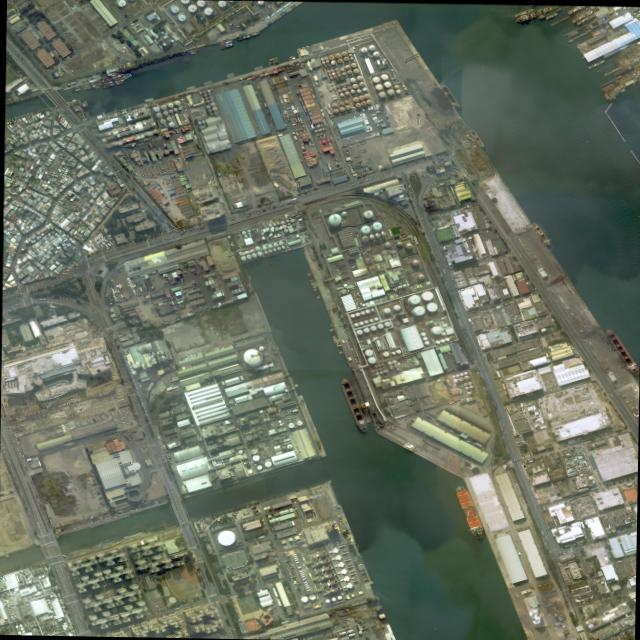large-vehicle: (90, 136, 94, 141), (74, 117, 78, 122), (172, 227, 177, 231), (113, 270, 118, 274), (119, 267, 123, 272), (118, 268, 122, 273), (116, 165, 120, 170), (142, 291, 148, 294), (134, 292, 140, 295), (269, 206, 275, 209), (110, 159, 114, 163), (131, 163, 135, 167), (95, 299, 99, 303), (124, 151, 127, 156), (231, 337, 236, 340), (197, 225, 202, 228), (117, 298, 122, 301), (441, 267, 444, 272), (434, 255, 437, 260), (544, 631, 547, 636), (501, 423, 504, 428), (424, 413, 429, 416), (269, 122, 272, 127), (271, 204, 276, 207), (372, 118, 377, 121), (370, 112, 375, 115), (113, 145, 119, 147), (107, 146, 113, 148), (194, 225, 200, 227), (186, 227, 192, 229), (150, 201, 153, 205), (112, 167, 116, 170), (15, 52, 18, 56), (408, 185, 411, 189), (465, 333, 468, 337), (410, 189, 413, 193), (403, 175, 406, 179), (400, 170, 403, 174), (445, 139, 448, 143), (562, 635, 566, 638), (609, 392, 612, 396), (540, 528, 542, 534), (517, 237, 520, 241), (402, 417, 406, 420), (344, 149, 348, 152), (359, 170, 362, 174), (356, 171, 359, 175), (347, 168, 350, 172), (285, 200, 291, 202), (374, 109, 378, 112), (375, 131, 378, 135), (369, 157, 372, 161), (364, 159, 367, 163), (364, 177, 368, 180), (139, 146, 144, 148), (408, 186, 410, 191), (406, 177, 408, 182), (548, 622, 550, 627), (497, 411, 499, 416), (373, 120, 378, 122), (347, 158, 352, 160), (371, 117, 376, 119), (371, 116, 376, 118), (373, 107, 378, 109), (361, 167, 366, 169), (87, 135, 90, 138), (169, 223, 172, 226), (19, 54, 22, 57), (405, 180, 408, 183), (431, 121, 434, 124), (424, 113, 427, 116), (606, 385, 609, 388), (82, 270, 84, 274), (232, 334, 236, 336), (174, 606, 178, 608), (180, 230, 184, 232), (237, 336, 241, 338), (245, 213, 249, 215), (434, 250, 436, 254), (410, 191, 412, 195), (416, 203, 418, 207), (419, 214, 421, 218), (439, 132, 441, 136), (361, 113, 365, 115), (360, 112, 364, 114), (503, 431, 505, 435), (518, 252, 520, 256), (525, 227, 529, 229), (521, 229, 525, 231), (358, 112, 360, 116), (353, 170, 357, 172), (353, 169, 357, 171), (348, 159, 352, 161), (353, 280, 355, 284), (278, 203, 282, 205), (359, 147, 361, 151), (371, 115, 375, 117), (377, 118, 381, 120), (374, 103, 376, 107), (370, 104, 372, 108), (369, 104, 371, 108), (367, 105, 369, 109), (368, 157, 370, 161), (366, 158, 368, 162), (362, 168, 366, 170), (350, 182, 354, 184), (96, 148, 98, 151), (112, 163, 115, 165), (120, 263, 122, 266), (361, 107, 363, 110), (361, 148, 363, 151), (354, 150, 356, 153), (358, 149, 360, 152), (368, 105, 370, 108), (375, 103, 377, 106), (372, 104, 374, 107), (366, 106, 368, 109), (372, 132, 374, 135), (363, 147, 365, 150), (254, 90, 256, 92), (30, 68, 32, 70), (524, 563, 526, 565), (343, 149, 347, 150), (362, 148, 364, 150), (38, 297, 41, 298), (466, 203, 467, 206), (360, 112, 363, 113), (265, 206, 268, 207)
ship: (337, 375, 368, 432), (602, 326, 638, 375), (453, 483, 485, 538), (513, 4, 564, 22), (438, 81, 460, 109), (530, 220, 550, 246), (535, 5, 561, 19), (468, 127, 484, 148), (570, 9, 592, 22), (575, 12, 594, 24), (566, 4, 586, 14), (586, 57, 604, 68), (513, 7, 532, 16), (603, 65, 620, 75), (110, 71, 125, 78), (218, 41, 232, 48), (100, 81, 113, 88), (544, 11, 557, 18), (235, 33, 249, 39), (219, 38, 232, 44), (90, 81, 101, 87), (100, 76, 111, 82), (101, 79, 111, 84), (79, 82, 89, 87), (249, 30, 259, 35), (267, 55, 277, 60), (113, 75, 122, 80), (90, 79, 99, 84), (80, 99, 85, 108), (121, 74, 129, 79), (114, 80, 123, 84), (114, 78, 123, 82), (71, 87, 80, 91), (81, 85, 90, 89), (121, 72, 128, 77), (82, 99, 87, 106), (70, 85, 78, 89), (286, 55, 294, 59), (603, 92, 607, 98), (287, 54, 293, 57), (299, 45, 304, 47), (304, 44, 308, 46), (295, 47, 299, 49)
storage-tank: (242, 348, 259, 364), (216, 529, 234, 544), (327, 212, 340, 223), (413, 304, 424, 314), (425, 301, 436, 310), (421, 290, 432, 299), (409, 293, 419, 302), (371, 220, 381, 229), (432, 324, 441, 333), (362, 209, 372, 217), (530, 615, 539, 623), (360, 224, 369, 232), (203, 6, 211, 14), (194, 11, 202, 19), (367, 355, 375, 362), (528, 608, 536, 615), (410, 258, 418, 265), (251, 453, 259, 460), (187, 3, 195, 10), (177, 12, 185, 19), (170, 4, 178, 11), (392, 303, 399, 310), (300, 594, 307, 601), (404, 241, 411, 248), (382, 240, 389, 247), (386, 87, 393, 94), (307, 592, 314, 599), (360, 234, 367, 241), (364, 348, 372, 354), (217, 0, 225, 6), (382, 80, 390, 86), (374, 83, 382, 89), (371, 75, 379, 81), (116, 0, 125, 5), (382, 306, 389, 312), (263, 460, 270, 466), (157, 354, 164, 360), (377, 90, 384, 96), (380, 73, 387, 79), (367, 44, 374, 50), (359, 46, 366, 52), (195, 0, 203, 5), (249, 447, 255, 453), (372, 50, 378, 56), (338, 105, 344, 111), (332, 107, 338, 113), (416, 273, 423, 278), (382, 350, 388, 355), (376, 322, 382, 327), (362, 326, 368, 331), (245, 434, 251, 439), (168, 120, 173, 126), (155, 111, 161, 116), (159, 117, 165, 122), (355, 74, 361, 79), (334, 52, 340, 57), (395, 240, 401, 245), (342, 55, 348, 60), (348, 76, 354, 81), (339, 288, 345, 293), (355, 328, 361, 333), (295, 419, 301, 424), (287, 421, 293, 426), (285, 443, 291, 448), (354, 101, 360, 106), (357, 94, 363, 99), (344, 104, 350, 109), (256, 0, 263, 4), (330, 102, 337, 106), (423, 339, 428, 344), (384, 320, 389, 325), (370, 324, 375, 329), (457, 375, 462, 380), (250, 251, 255, 256), (277, 239, 282, 244), (174, 99, 179, 104), (167, 101, 172, 106), (160, 103, 165, 108), (153, 105, 158, 110), (162, 109, 167, 114), (350, 61, 355, 66), (352, 67, 357, 72), (346, 68, 351, 73), (336, 57, 341, 62), (358, 80, 363, 85), (351, 82, 356, 87), (374, 231, 379, 236), (368, 233, 373, 238), (280, 444, 285, 449), (365, 98, 370, 103), (363, 92, 368, 97), (360, 99, 365, 104), (343, 98, 348, 103), (340, 210, 345, 215), (257, 345, 263, 349), (165, 115, 171, 119), (327, 54, 333, 58), (340, 50, 346, 54), (395, 348, 400, 352), (449, 335, 454, 339), (439, 337, 444, 341), (463, 374, 468, 378), (392, 362, 397, 366), (245, 253, 250, 257), (279, 219, 284, 223), (213, 110, 218, 114), (211, 105, 216, 109), (209, 101, 214, 105), (324, 598, 329, 602), (256, 464, 261, 468), (246, 468, 251, 472), (250, 427, 255, 431), (252, 432, 257, 436), (266, 243, 271, 247), (336, 594, 341, 598), (329, 59, 334, 63), (344, 64, 349, 68), (361, 86, 366, 90), (395, 88, 400, 92), (380, 230, 385, 234), (355, 88, 360, 92), (282, 227, 287, 231), (349, 88, 354, 92), (343, 90, 348, 94), (345, 84, 350, 88), (340, 86, 345, 90), (352, 96, 357, 100), (337, 100, 342, 104), (444, 336, 448, 340), (435, 339, 439, 343), (422, 335, 426, 339), (420, 331, 424, 335), (450, 373, 454, 377), (466, 390, 470, 394), (462, 381, 466, 385), (452, 377, 456, 381), (357, 629, 361, 633), (388, 364, 392, 368), (387, 360, 391, 364), (379, 361, 383, 365), (240, 255, 244, 259), (273, 225, 277, 229), (264, 226, 268, 230), (256, 250, 260, 254), (205, 104, 209, 108), (254, 245, 258, 249), (330, 596, 334, 600), (273, 440, 277, 444), (258, 429, 262, 433), (261, 244, 265, 248), (256, 425, 260, 429), (272, 241, 276, 245), (177, 105, 181, 109), (172, 106, 176, 110), (373, 316, 377, 320), (368, 317, 372, 321), (364, 308, 368, 312), (393, 83, 397, 87), (359, 309, 363, 313), (354, 311, 358, 315), (349, 312, 353, 316), (358, 320, 362, 324), (289, 217, 293, 221), (281, 223, 285, 227), (287, 536, 291, 540), (344, 80, 348, 84), (338, 92, 343, 95), (440, 331, 444, 334), (370, 372, 374, 375), (458, 371, 462, 374), (454, 372, 458, 375), (374, 371, 378, 374), (391, 359, 395, 362), (382, 368, 386, 371), (381, 365, 385, 368), (376, 362, 380, 365), (373, 363, 377, 366), (377, 366, 381, 369), (378, 370, 382, 373), (271, 221, 275, 224), (243, 233, 246, 237), (240, 230, 244, 233), (207, 108, 211, 111), (237, 449, 241, 452), (271, 247, 275, 250), (205, 98, 209, 101), (150, 356, 154, 359), (149, 353, 153, 356), (146, 354, 150, 357), (20, 629, 24, 632), (16, 630, 20, 633), (169, 38, 173, 41), (161, 42, 165, 45), (341, 70, 344, 74), (320, 59, 324, 62), (339, 66, 343, 69), (328, 75, 332, 78), (333, 66, 337, 69), (363, 319, 367, 322), (369, 307, 373, 310), (348, 55, 352, 58), (347, 52, 351, 55), (353, 322, 357, 325), (291, 221, 294, 225), (284, 218, 288, 221), (277, 439, 281, 442), (336, 88, 340, 91), (334, 83, 338, 86), (27, 579, 30, 582), (37, 574, 40, 577), (391, 350, 394, 353), (370, 369, 373, 372), (468, 384, 471, 387), (464, 385, 467, 388), (467, 380, 470, 383), (463, 370, 466, 373), (395, 366, 398, 369), (259, 228, 262, 231), (275, 220, 278, 223), (267, 222, 270, 225), (260, 231, 263, 234), (246, 228, 249, 231), (201, 119, 204, 122), (197, 120, 200, 123), (263, 249, 266, 252), (209, 97, 212, 100), (230, 475, 233, 478), (276, 245, 279, 248), (267, 248, 270, 251), (208, 94, 211, 97), (42, 616, 45, 619), (152, 359, 155, 362), (48, 614, 51, 617), (45, 615, 48, 618), (19, 626, 22, 629), (18, 623, 21, 626), (14, 624, 17, 627), (9, 614, 12, 617), (48, 605, 51, 608), (159, 350, 162, 353), (204, 95, 207, 98), (203, 92, 206, 95), (207, 91, 210, 94), (206, 88, 209, 91), (168, 108, 171, 111), (326, 62, 329, 65), (322, 63, 325, 66), (332, 74, 335, 77), (335, 69, 338, 72), (329, 67, 332, 70), (326, 69, 329, 72), (286, 221, 289, 224), (280, 244, 283, 247), (285, 418, 288, 421), (278, 421, 281, 424), (277, 419, 280, 422), (348, 250, 351, 253), (339, 82, 342, 85), (373, 368, 377, 370), (269, 228, 273, 230), (324, 59, 328, 61), (330, 71, 334, 73), (248, 233, 250, 236), (209, 111, 211, 114), (150, 351, 153, 353), (147, 351, 149, 354), (108, 72, 111, 74), (106, 72, 108, 75), (47, 603, 50, 605), (40, 574, 43, 576), (202, 90, 205, 92), (160, 30, 162, 33), (323, 56, 326, 58), (319, 57, 322, 59), (336, 73, 339, 75), (327, 72, 330, 74), (346, 49, 349, 51), (352, 247, 355, 249), (361, 302, 364, 304), (350, 247, 352, 250), (356, 248, 358, 251), (353, 249, 356, 251), (406, 282, 408, 284), (263, 224, 265, 226), (247, 231, 249, 233), (242, 461, 244, 463), (315, 596, 317, 598), (46, 632, 48, 634), (32, 621, 34, 623), (26, 623, 28, 625), (34, 592, 36, 594), (355, 246, 357, 248), (348, 248, 350, 250), (351, 250, 353, 252), (405, 281, 407, 282), (405, 279, 406, 281), (263, 433, 264, 435), (28, 623, 30, 624)
